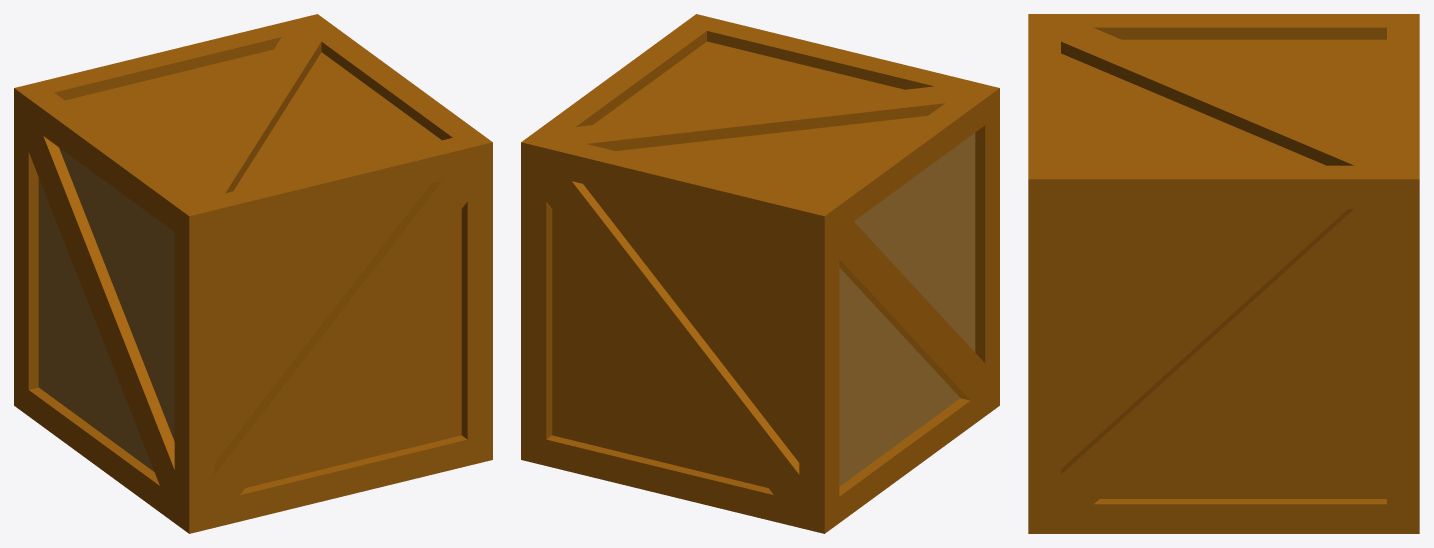
File: Wooden Crate L1.1.fbx
3 views of the same model, side by side, from view 1: azimuth 30°, elevation 25°; view 2: azimuth 150°, elevation 25°; view 3: azimuth 270°, elevation 25° (orthographic). The views are drawn at different scales.
Visible parts, largest first — view 1: Large Crate; view 2: Large Crate; view 3: Large Crate.
Part boxes in pixels (x1,y1,x2,y2): Large Crate: (14,14,492,533); Large Crate: (521,14,999,533); Large Crate: (1028,14,1419,533).
Bounding box in the file's own units: 300 × 300 × 300.
